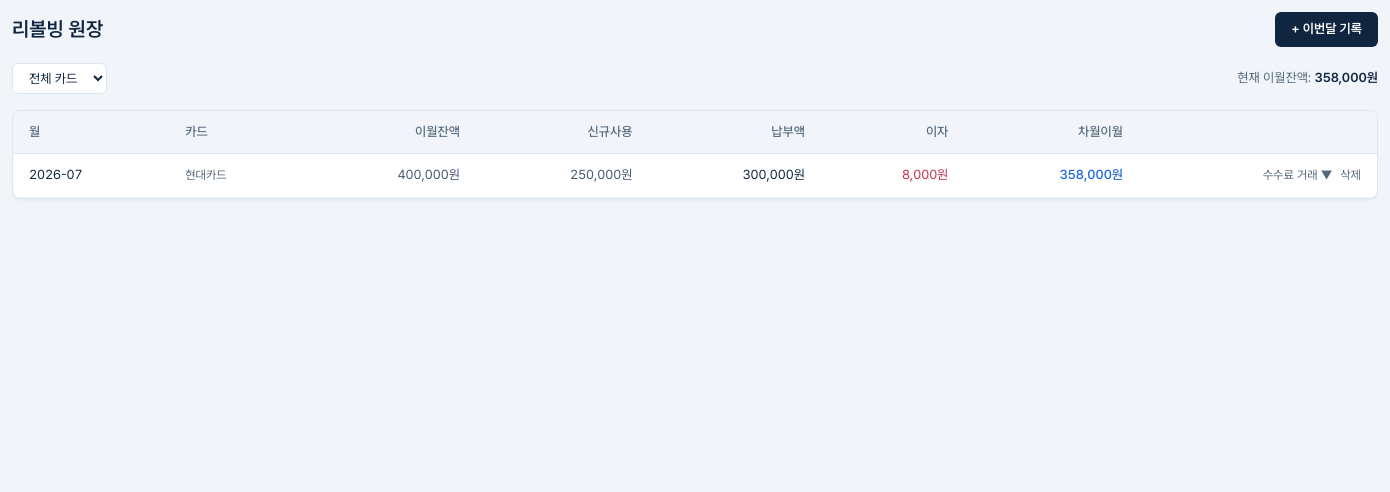
Test: 월 기록 등록 › 버튼이 폼을 열고 닫는다
The width and height of the screenshot is (1390, 492).
Click the button "+ 이번달 기록". click: (1327, 29)
box: [1275,12,1378,47]
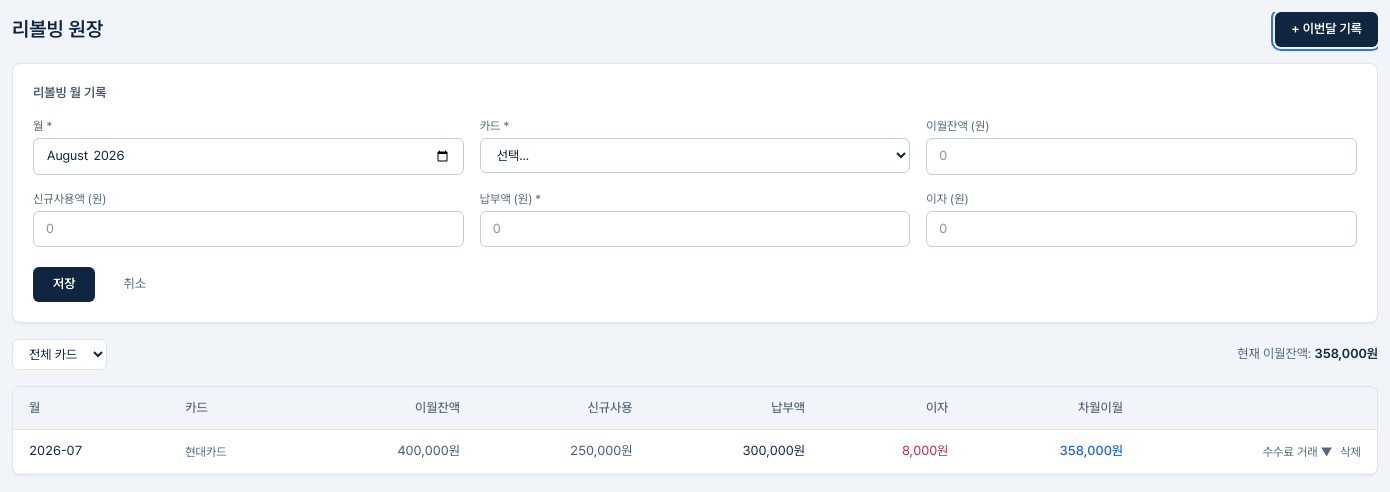
Expected: the heading "리볼빙 월 기록" is shown, [33,85,107,100]
Click the button "+ 이번달 기록". click: (1327, 29)
box: [1275,12,1378,47]
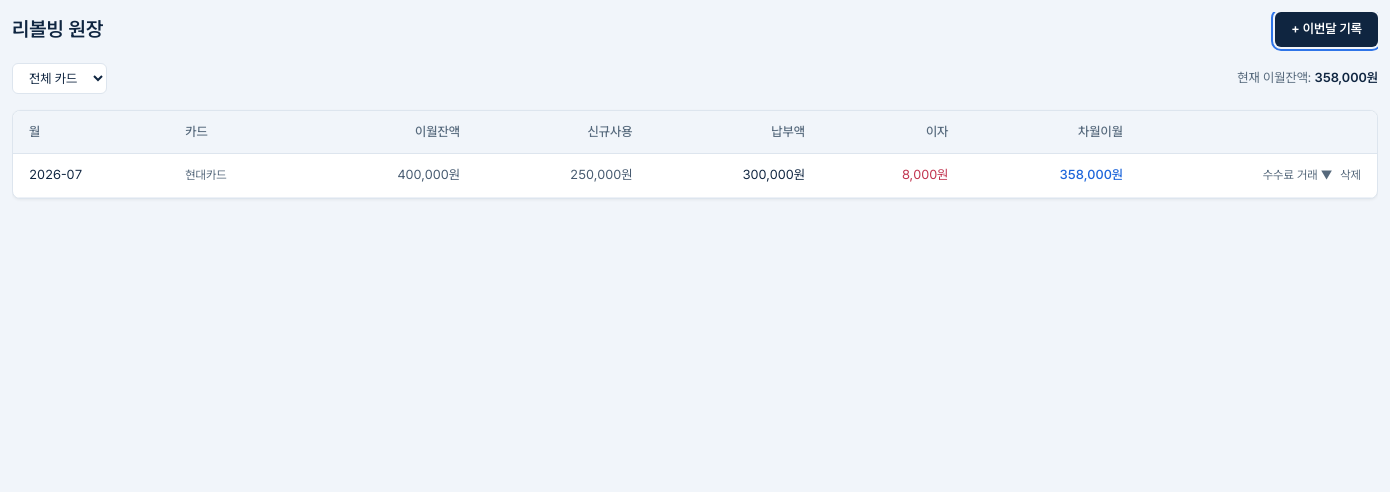
Expected: the heading "리볼빙 월 기록" is gone
